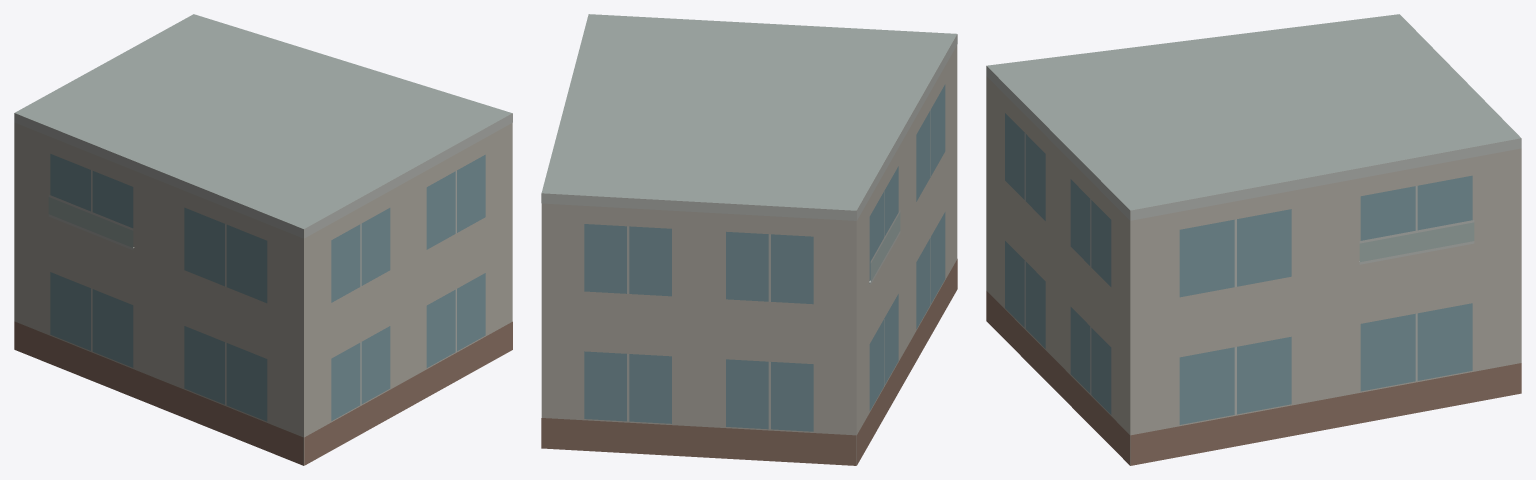
File: survey-upis-32884036.glb
3 renders of one model, left to right at view 1: azimuth 30°, elevation 25°; view 2: azimuth 150°, elevation 25°; view 3: azimuth 270°, elevation 25°, orthographic. The views are drawn at different scales.
Parts seen in each view (by area): view 1: survey-upis-32884036.tmp; view 2: survey-upis-32884036.tmp; view 3: survey-upis-32884036.tmp.
Boxes of the visible parts, box(x1,y1,x2,y2) form: survey-upis-32884036.tmp: box(14, 14, 512, 465); survey-upis-32884036.tmp: box(541, 14, 957, 465); survey-upis-32884036.tmp: box(986, 14, 1521, 465).
Bounding box in the file's own units: 10.09 × 6.1 × 11.6.
